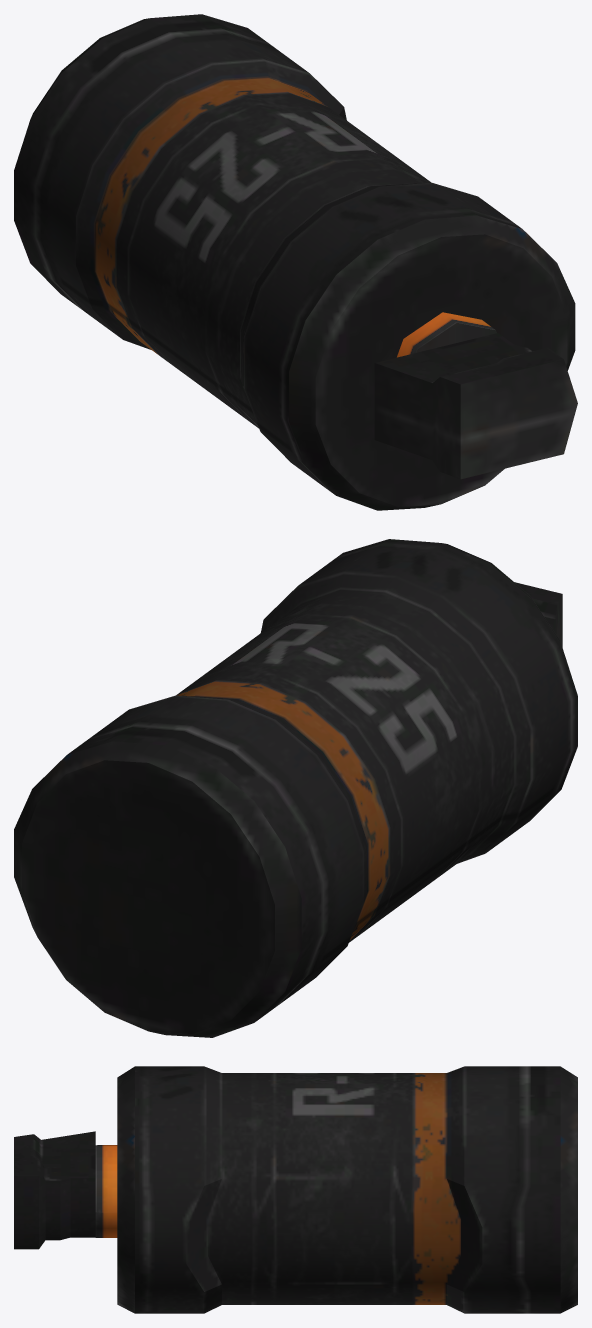
Rendered from t6_wpn_grenade_supply_world_LOD0.obj.
3 views of the same model, one above another, from view 1: azimuth 30°, elevation 25°; view 2: azimuth 150°, elevation 25°; view 3: azimuth 270°, elevation 25° (orthographic). The views are drawn at different scales.
Parts seen in each view (by area): view 1: mtl_t6_wpn_grenade_supply; view 2: mtl_t6_wpn_grenade_supply; view 3: mtl_t6_wpn_grenade_supply.
Boxes of the visible parts, left/top/right/bottom form: mtl_t6_wpn_grenade_supply: left=14, top=14, right=577, bottom=510; mtl_t6_wpn_grenade_supply: left=14, top=539, right=577, bottom=1037; mtl_t6_wpn_grenade_supply: left=14, top=1066, right=577, bottom=1313.
Bounding box in the file's own units: 6.29 × 6.06 × 13.88.
